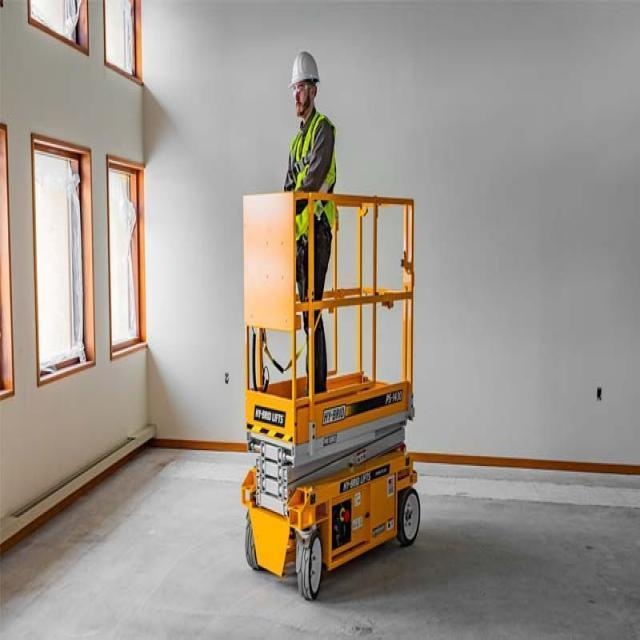Arnes_seguridad: (292, 115, 331, 273)
